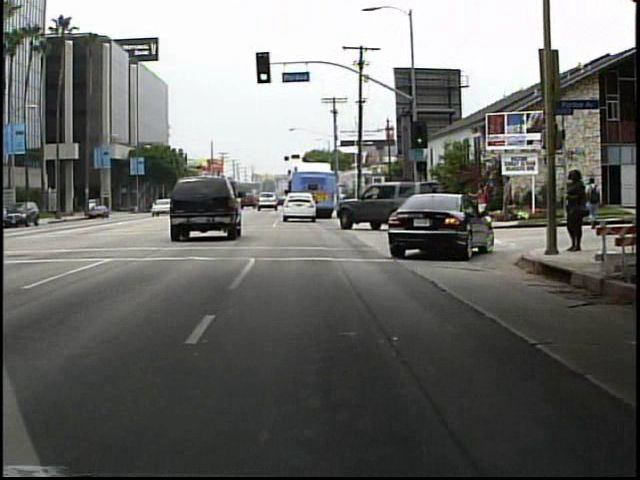person: (557, 165, 584, 257), (584, 172, 603, 231), (498, 175, 516, 222), (473, 178, 495, 212)
